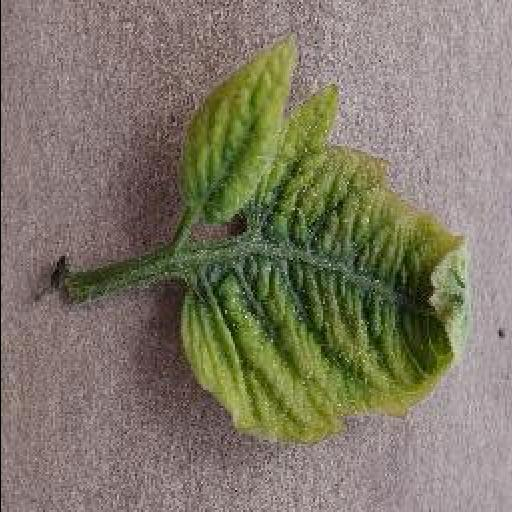disease_tomato: (190, 84, 474, 446), (176, 35, 302, 227)
